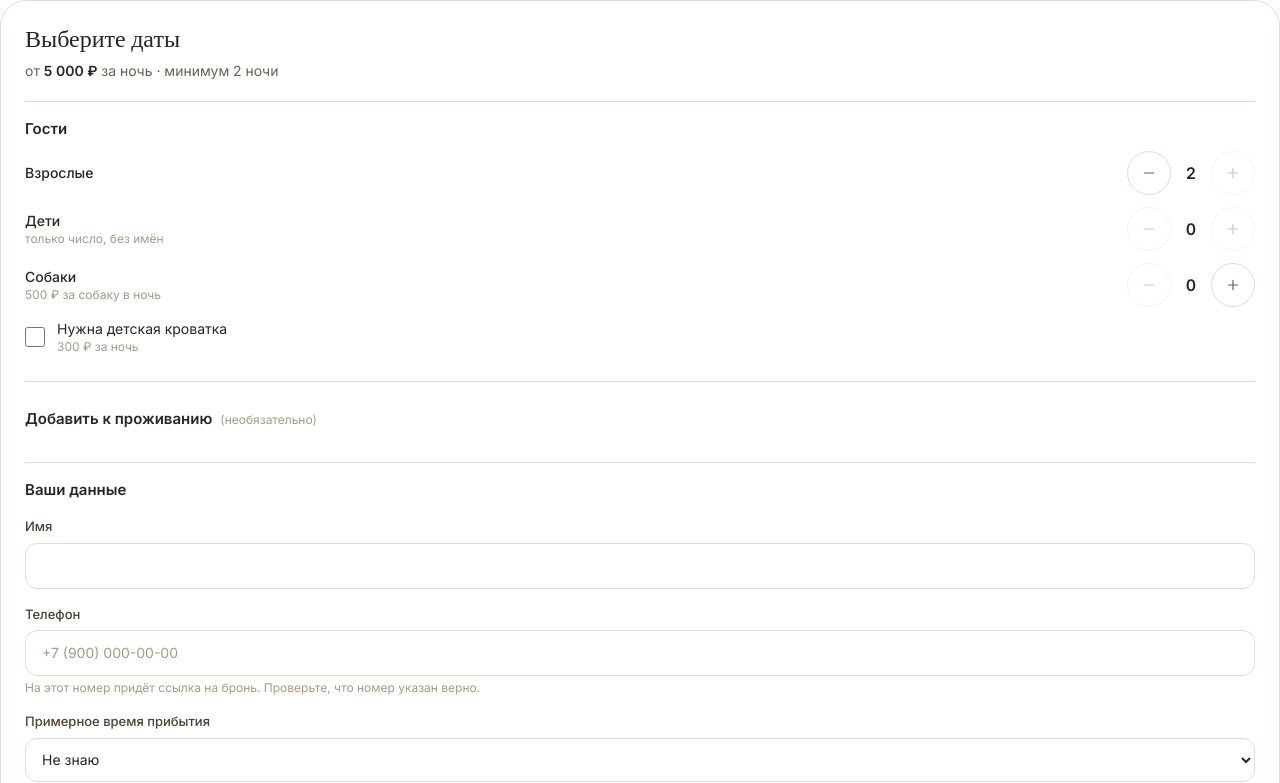
Test: BookingPanel › the steppers stop at what the house takes (capacity, plus extra beds only when enabled)
This screenshot has width=1280, height=783.
expect the button named "Взрослые: больше" is disabled: met, box [1211, 150, 1255, 194]
expect the button named "Дети: больше" is disabled: met, box [1211, 206, 1255, 250]
What coordinates should you click on to do the following:
click the button named "Взрослые: меньше"
I would click on:
 (1149, 172)
Its box is [1127, 150, 1171, 194].
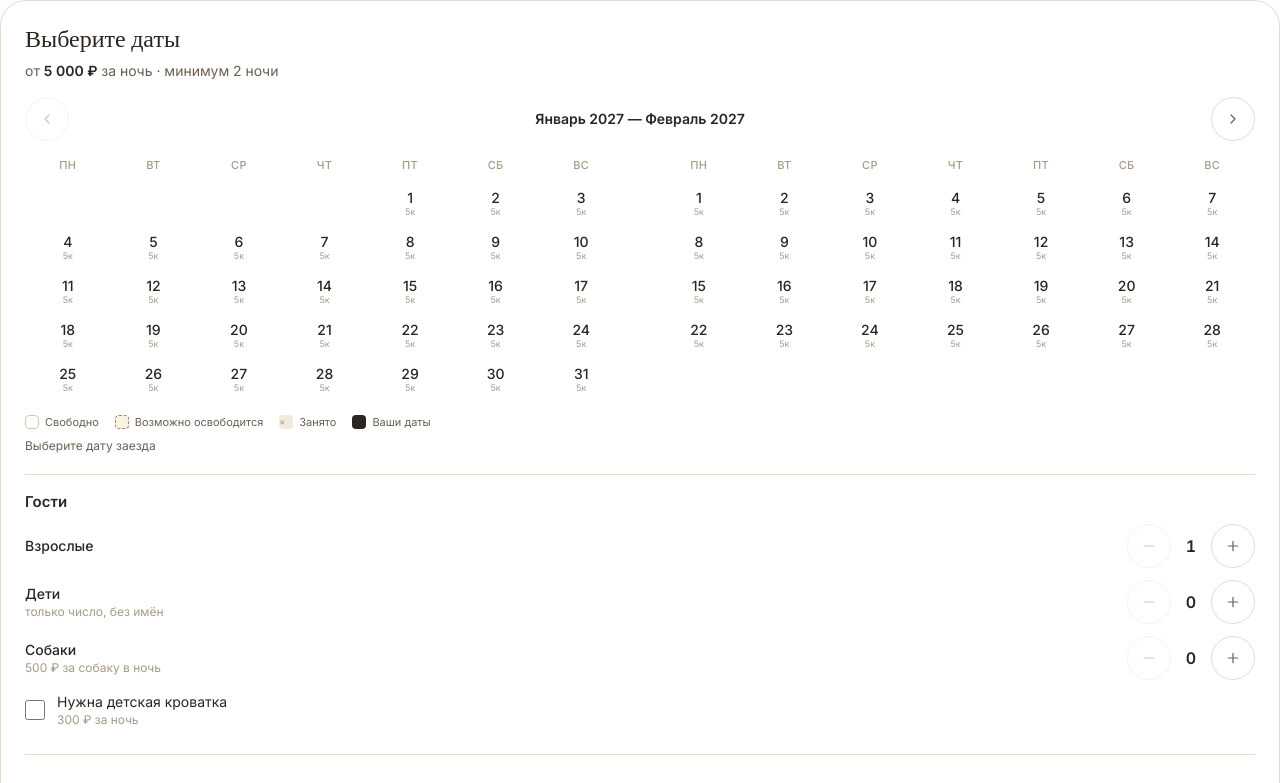
expect the button named "Взрослые: меньше" is disabled: met, box [1127, 524, 1171, 568]
